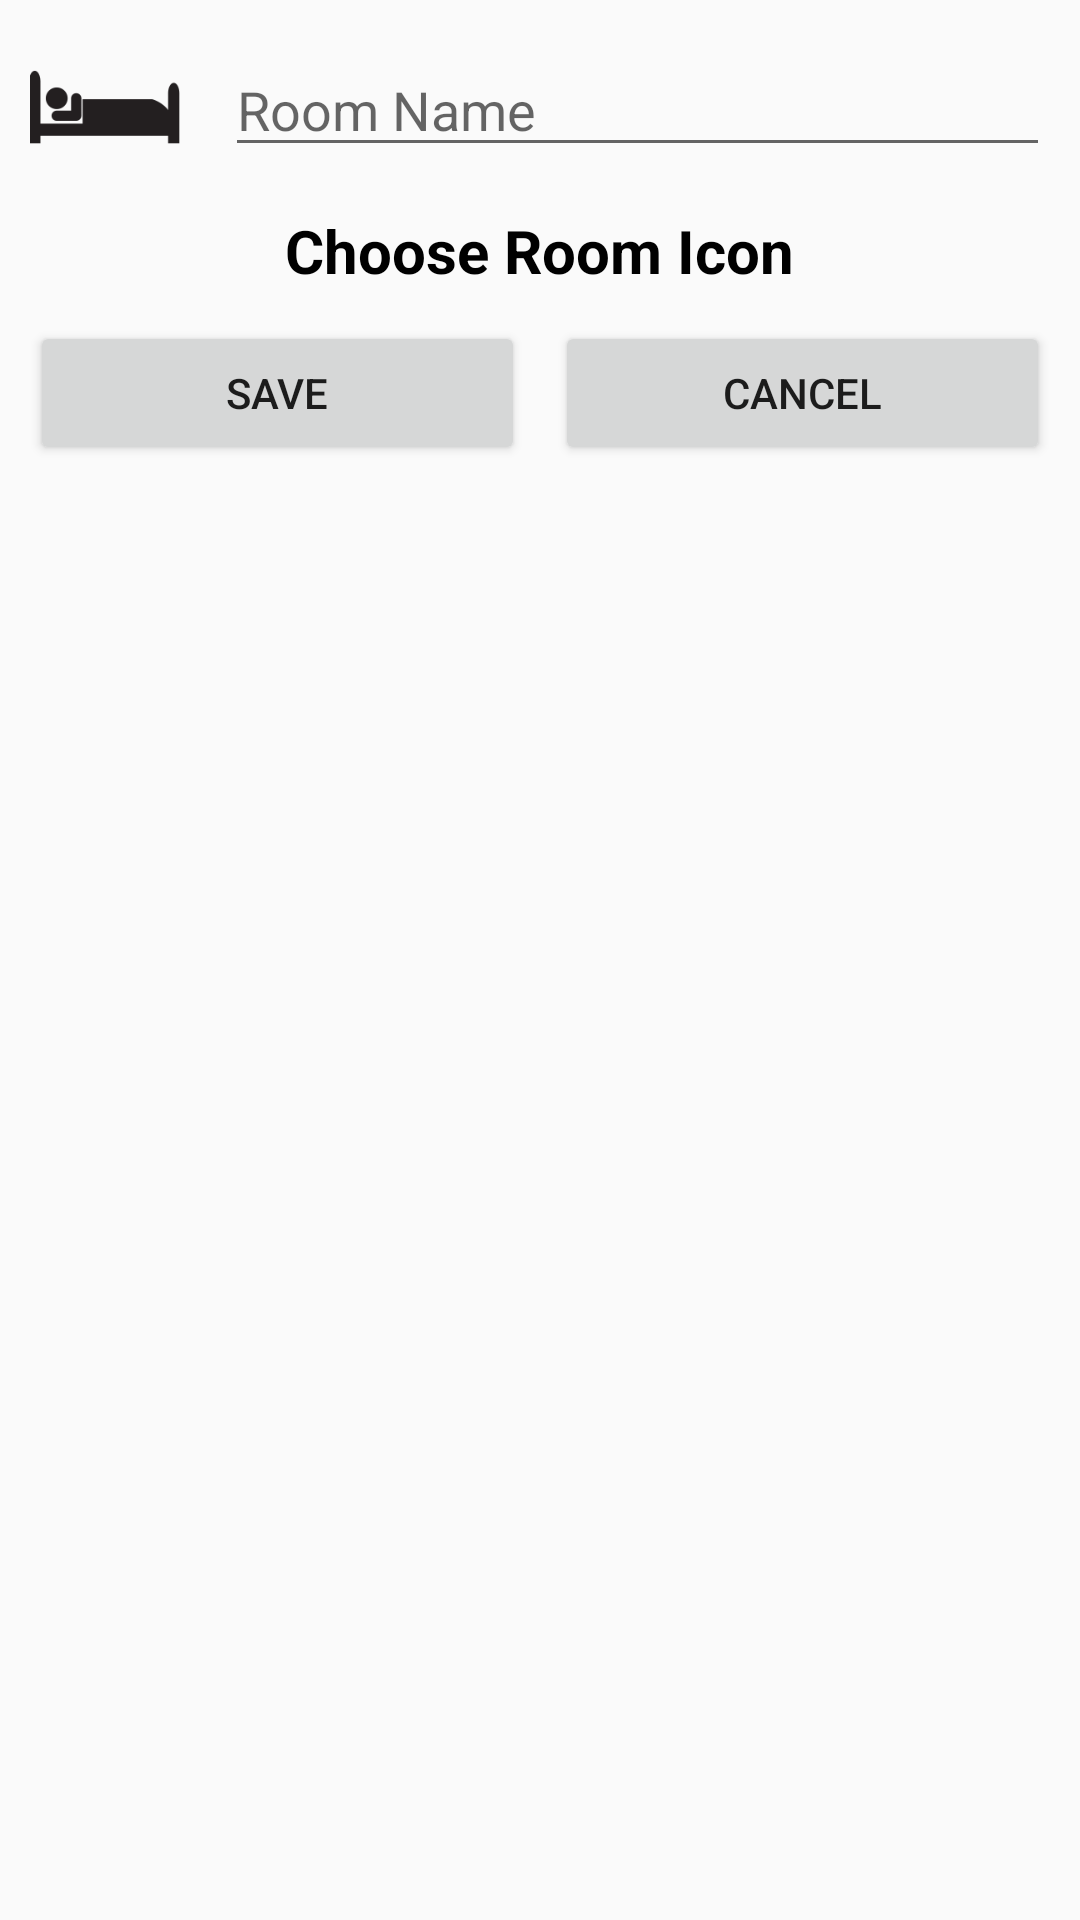

Point at icon controls on the screen. Image size 1080 × 1920, points as [x,y].
bed room: [105,107]
